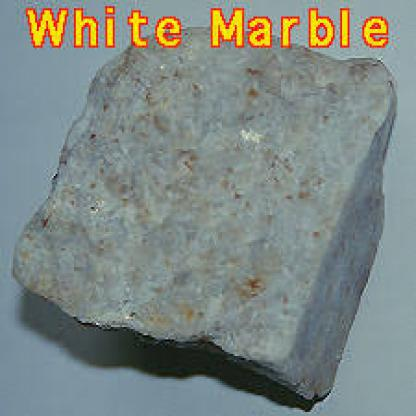Metamorphic_Quartize: (7, 23, 414, 414)
